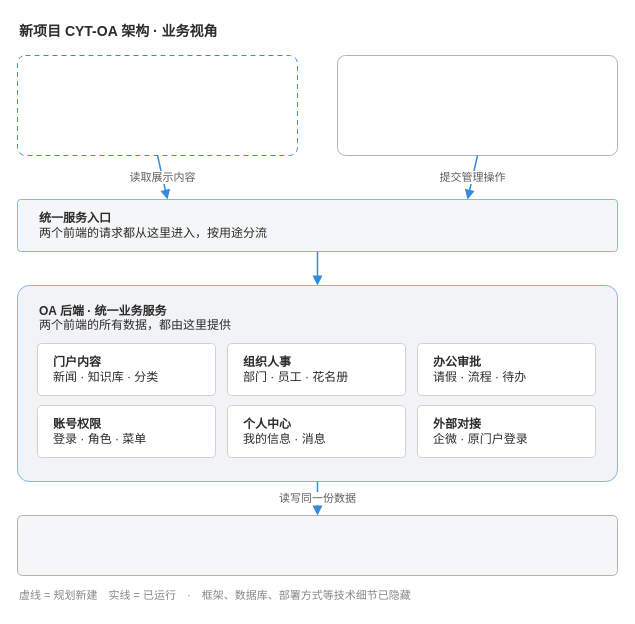
Some shapes in this 635 by 624 pixel diagram are drawn without their labels. The shapes that lost their labels are listed below. From the top down, each one's centre as x and y in pixels, then its label:
the point at 157,105: 门户前台 全体员工 · 新闻 / 知识库 / 找资料 规划新建
the point at 477,105: OA 管理后台 管理员 · 配内容 / 管人事 / 审流程 现有
the point at 317,545: 统一业务数据 一份数据两边共用，不各建一套、不做双写
